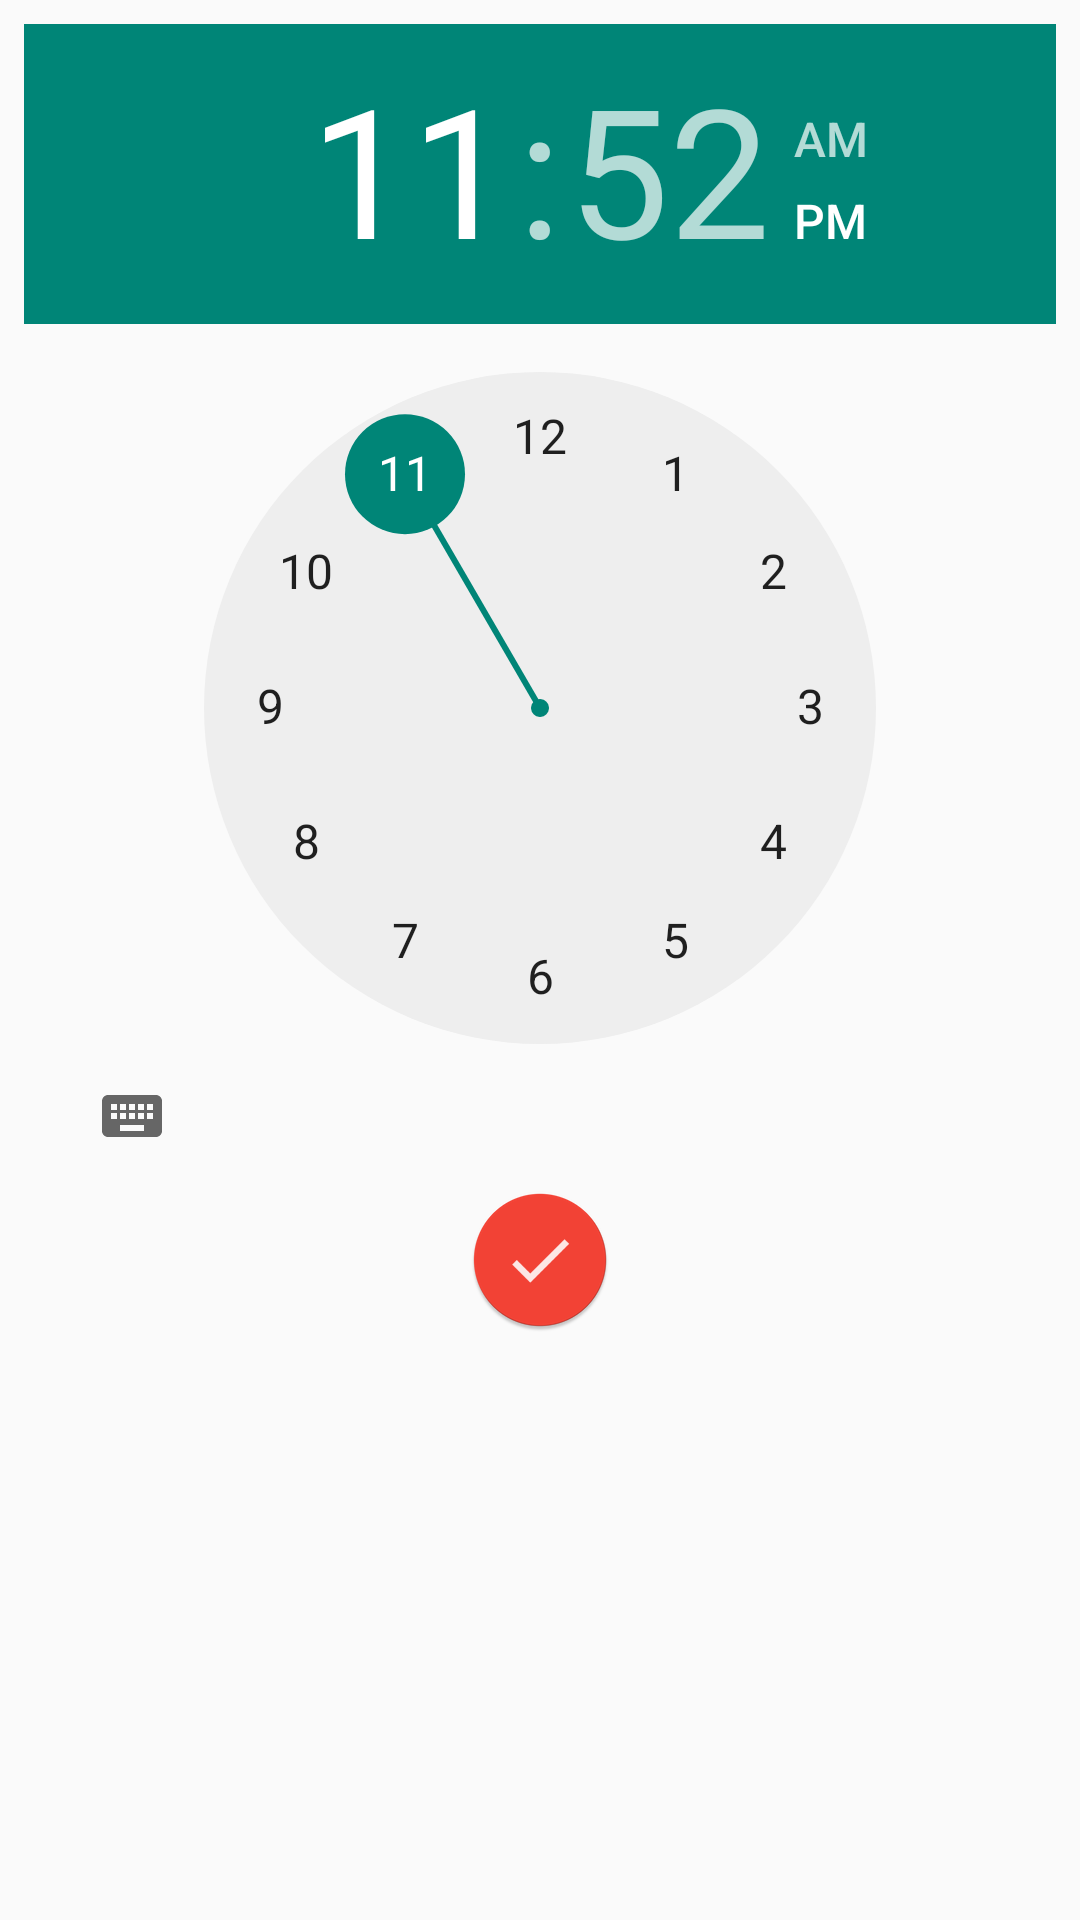

Named icons in this screenshot (1080px x 1920px) and their bounding boxes, (x1, y1, x2, y2):
done: (473, 1193, 607, 1329)
